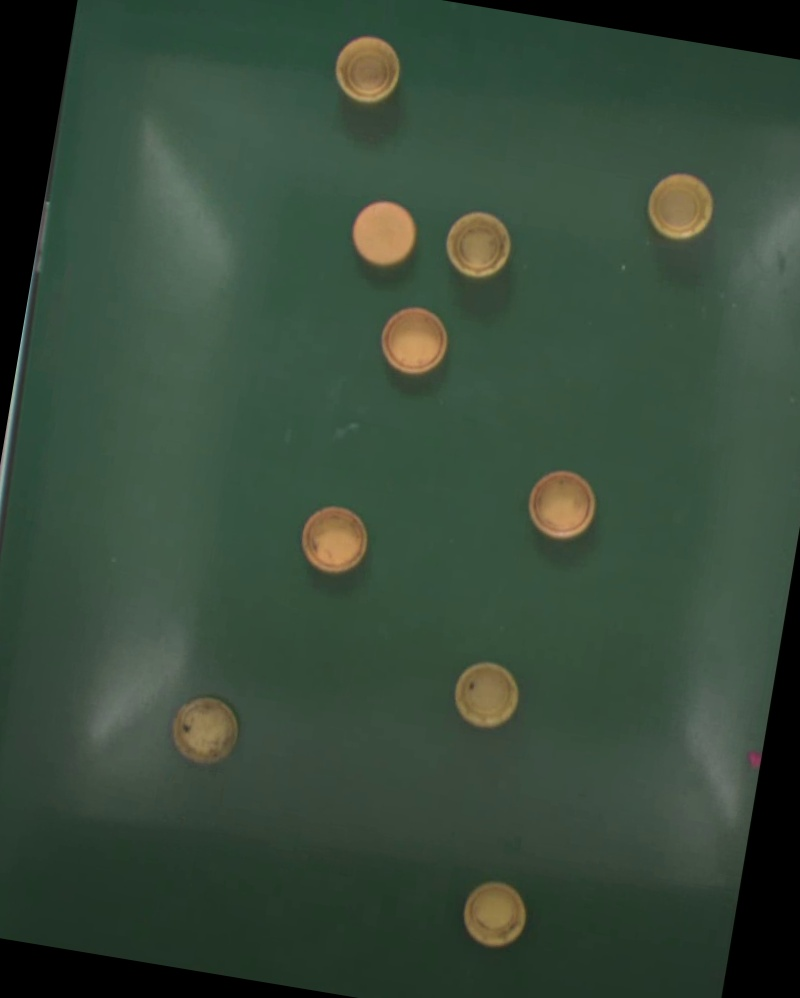Others: (376, 302, 453, 380), (524, 466, 601, 544), (329, 32, 406, 109), (166, 692, 243, 769), (642, 169, 718, 246), (458, 875, 533, 953), (449, 657, 525, 733), (296, 503, 372, 579), (347, 195, 423, 270), (441, 208, 516, 283)
